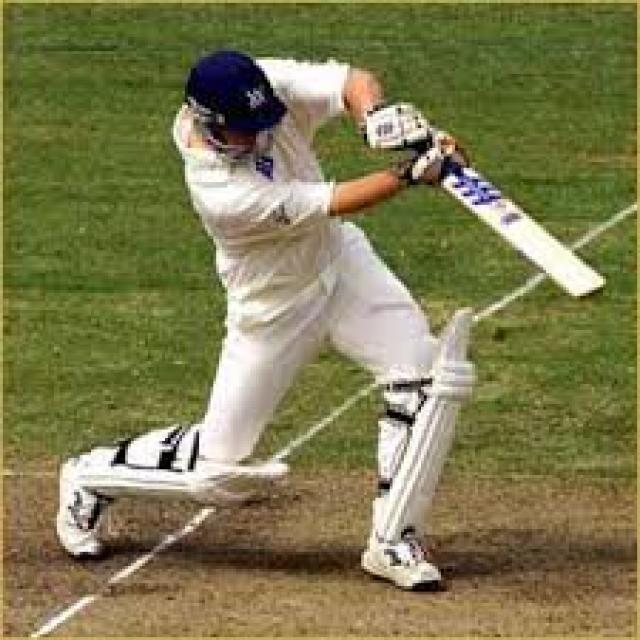bat: (446, 158, 612, 304)
toe: (575, 280, 615, 305)
